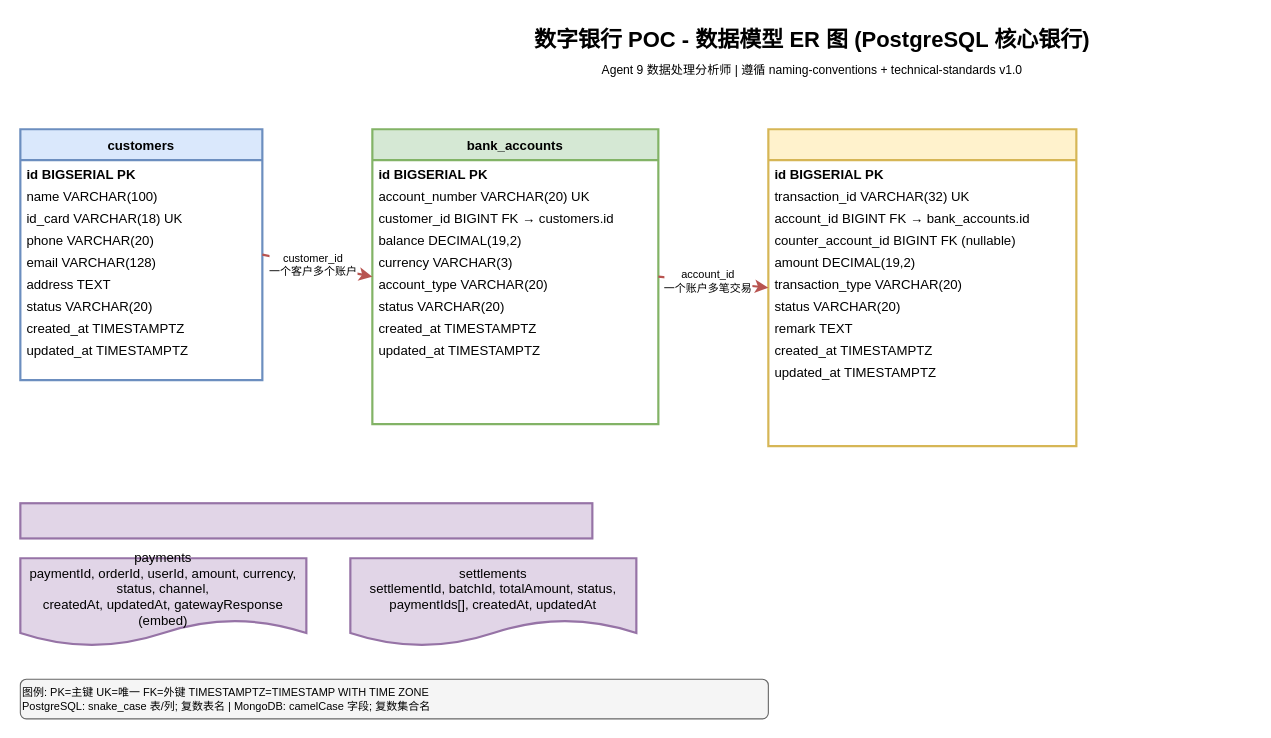
Image size: 1271x738. Some labels were removed from this diagram. The shapes that lost their labels are listed below. From the top down, each one's box as (x1, y1, x2, y2) in pixels, then its label:
(767, 128, 1077, 447): transactions
(19, 502, 593, 539): MongoDB 支付域 (payment_db) — 文档模型
